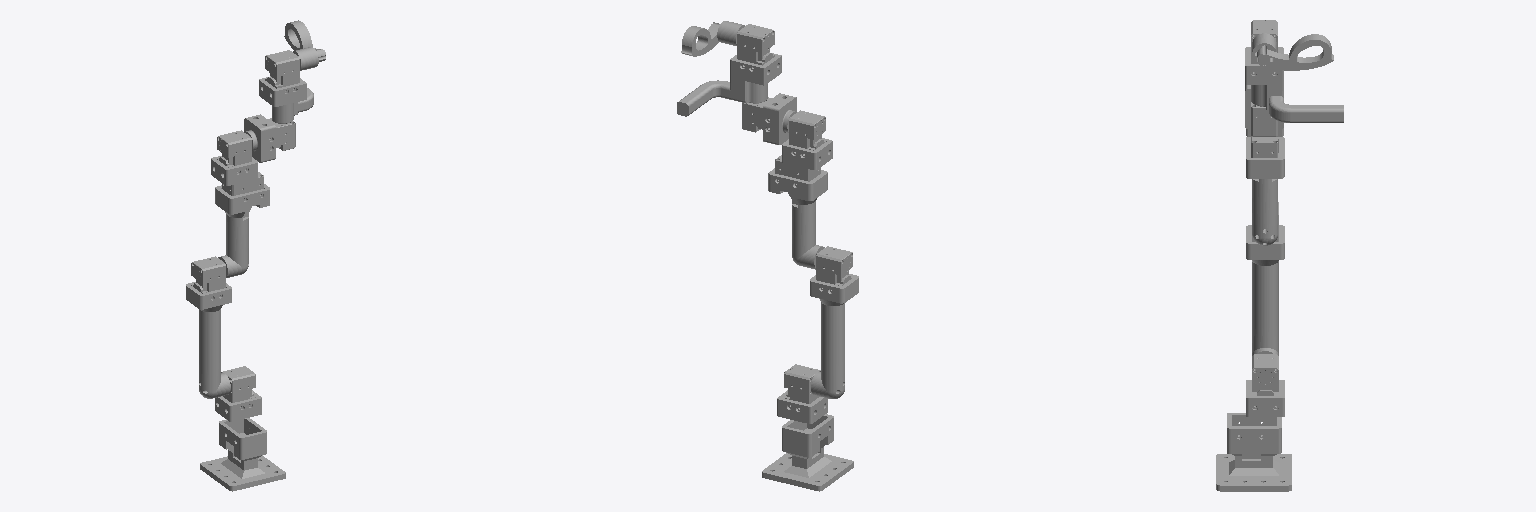
The robot description file, URDF, robot "assy2urdf":
<?xml version="1.0" ?>
<!-- =================================================================================== -->
<!-- |    This document was autogenerated by xacro from assy2urdf.xacro                | -->
<!-- |    EDITING THIS FILE BY HAND IS NOT RECOMMENDED                                 | -->
<!-- =================================================================================== -->
<robot name="assy2urdf">
  <material name="silver">
    <color rgba="0.700 0.700 0.700 1.000"/>
  </material>
  <transmission name="Revolute 2_tran">
    <type>transmission_interface/SimpleTransmission</type>
    <joint name="Revolute 2">
      <hardwareInterface>hardware_interface/EffortJointInterface</hardwareInterface>
    </joint>
    <actuator name="Revolute 2_actr">
      <hardwareInterface>hardware_interface/EffortJointInterface</hardwareInterface>
      <mechanicalReduction>1</mechanicalReduction>
    </actuator>
  </transmission>
  <transmission name="Revolute 4_tran">
    <type>transmission_interface/SimpleTransmission</type>
    <joint name="Revolute 4">
      <hardwareInterface>hardware_interface/EffortJointInterface</hardwareInterface>
    </joint>
    <actuator name="Revolute 4_actr">
      <hardwareInterface>hardware_interface/EffortJointInterface</hardwareInterface>
      <mechanicalReduction>1</mechanicalReduction>
    </actuator>
  </transmission>
  <transmission name="Revolute 6_tran">
    <type>transmission_interface/SimpleTransmission</type>
    <joint name="Revolute 6">
      <hardwareInterface>hardware_interface/EffortJointInterface</hardwareInterface>
    </joint>
    <actuator name="Revolute 6_actr">
      <hardwareInterface>hardware_interface/EffortJointInterface</hardwareInterface>
      <mechanicalReduction>1</mechanicalReduction>
    </actuator>
  </transmission>
  <transmission name="Revolute 8_tran">
    <type>transmission_interface/SimpleTransmission</type>
    <joint name="Revolute 8">
      <hardwareInterface>hardware_interface/EffortJointInterface</hardwareInterface>
    </joint>
    <actuator name="Revolute 8_actr">
      <hardwareInterface>hardware_interface/EffortJointInterface</hardwareInterface>
      <mechanicalReduction>1</mechanicalReduction>
    </actuator>
  </transmission>
  <transmission name="Revolute 10_tran">
    <type>transmission_interface/SimpleTransmission</type>
    <joint name="Revolute 10">
      <hardwareInterface>hardware_interface/EffortJointInterface</hardwareInterface>
    </joint>
    <actuator name="Revolute 10_actr">
      <hardwareInterface>hardware_interface/EffortJointInterface</hardwareInterface>
      <mechanicalReduction>1</mechanicalReduction>
    </actuator>
  </transmission>
  <transmission name="Revolute 12_tran">
    <type>transmission_interface/SimpleTransmission</type>
    <joint name="Revolute 12">
      <hardwareInterface>hardware_interface/EffortJointInterface</hardwareInterface>
    </joint>
    <actuator name="Revolute 12_actr">
      <hardwareInterface>hardware_interface/EffortJointInterface</hardwareInterface>
      <mechanicalReduction>1</mechanicalReduction>
    </actuator>
  </transmission>
  <transmission name="Revolute 14_tran">
    <type>transmission_interface/SimpleTransmission</type>
    <joint name="Revolute 14">
      <hardwareInterface>hardware_interface/EffortJointInterface</hardwareInterface>
    </joint>
    <actuator name="Revolute 14_actr">
      <hardwareInterface>hardware_interface/EffortJointInterface</hardwareInterface>
      <mechanicalReduction>1</mechanicalReduction>
    </actuator>
  </transmission>
  <gazebo>
    <plugin filename="libgazebo_ros_control.so" name="control"/>
  </gazebo>
  <gazebo reference="base_link">
    <material>Gazebo/Silver</material>
    <mu1>0.2</mu1>
    <mu2>0.2</mu2>
    <self_collide>true</self_collide>
    <gravity>true</gravity>
  </gazebo>
  <gazebo reference="XM,H-430_idler_Component5_v2__1__1">
    <material>Gazebo/Silver</material>
    <mu1>0.2</mu1>
    <mu2>0.2</mu2>
    <self_collide>true</self_collide>
  </gazebo>
  <gazebo reference="piper_01_v3_1">
    <material>Gazebo/Silver</material>
    <mu1>0.2</mu1>
    <mu2>0.2</mu2>
    <self_collide>true</self_collide>
  </gazebo>
  <gazebo reference="XM,H-430_idler_Component5_v2__6__1">
    <material>Gazebo/Silver</material>
    <mu1>0.2</mu1>
    <mu2>0.2</mu2>
    <self_collide>true</self_collide>
  </gazebo>
  <gazebo reference="piper_02_v2_1">
    <material>Gazebo/Silver</material>
    <mu1>0.2</mu1>
    <mu2>0.2</mu2>
    <self_collide>true</self_collide>
  </gazebo>
  <gazebo reference="XM,H-430_idler_Component5_v2__4__1">
    <material>Gazebo/Silver</material>
    <mu1>0.2</mu1>
    <mu2>0.2</mu2>
    <self_collide>true</self_collide>
  </gazebo>
  <gazebo reference="piper_03_v2_1">
    <material>Gazebo/Silver</material>
    <mu1>0.2</mu1>
    <mu2>0.2</mu2>
    <self_collide>true</self_collide>
  </gazebo>
  <gazebo reference="XM,H-430_idler_Component5_v2__2__1">
    <material>Gazebo/Silver</material>
    <mu1>0.2</mu1>
    <mu2>0.2</mu2>
    <self_collide>true</self_collide>
  </gazebo>
  <gazebo reference="piper_04_v3_1">
    <material>Gazebo/Silver</material>
    <mu1>0.2</mu1>
    <mu2>0.2</mu2>
    <self_collide>true</self_collide>
  </gazebo>
  <gazebo reference="XM,H-430_idler_Component5_v2__3__1">
    <material>Gazebo/Silver</material>
    <mu1>0.2</mu1>
    <mu2>0.2</mu2>
    <self_collide>true</self_collide>
  </gazebo>
  <gazebo reference="piper_05_v2_1">
    <material>Gazebo/Silver</material>
    <mu1>0.2</mu1>
    <mu2>0.2</mu2>
    <self_collide>true</self_collide>
  </gazebo>
  <gazebo reference="XM,H-430_idler_Component5_v2__5__1">
    <material>Gazebo/Silver</material>
    <mu1>0.2</mu1>
    <mu2>0.2</mu2>
    <self_collide>true</self_collide>
  </gazebo>
  <gazebo reference="gripper_01_v1_1">
    <material>Gazebo/Silver</material>
    <mu1>0.2</mu1>
    <mu2>0.2</mu2>
    <self_collide>true</self_collide>
  </gazebo>
  <gazebo reference="XM,H-430_idler_Component5_v2_1">
    <material>Gazebo/Silver</material>
    <mu1>0.2</mu1>
    <mu2>0.2</mu2>
    <self_collide>true</self_collide>
  </gazebo>
  <gazebo reference="gripper_02_v1_1">
    <material>Gazebo/Silver</material>
    <mu1>0.2</mu1>
    <mu2>0.2</mu2>
    <self_collide>true</self_collide>
  </gazebo>
  <link name="base_link">
    <inertial>
      <origin rpy="0 0 0" xyz="2.7473517341654513e-16 0.00036006507840164056 0.021846353644801978"/>
      <mass value="0.8118244367701402"/>
      <inertia ixx="0.000649" ixy="0.0" ixz="0.0" iyy="0.000558" iyz="-3e-06" izz="0.000561"/>
    </inertial>
    <visual>
      <origin rpy="0 0 0" xyz="0 0 0"/>
      <geometry>
        <mesh filename="package://gravity_compensation/meshes/base_link.stl" scale="0.001 0.001 0.001"/>
      </geometry>
      <material name="silver"/>
    </visual>
    <collision>
      <origin rpy="0 0 0" xyz="0 0 0"/>
      <geometry>
        <mesh filename="package://gravity_compensation/meshes/base_link.stl" scale="0.001 0.001 0.001"/>
      </geometry>
    </collision>
  </link>
  <link name="XM,H-430_idler_Component5_v2__1__1">
    <inertial>
      <origin rpy="0 0 0" xyz="-0.014249999999995681 -0.007727783469295217 0.00678328400293815"/>
      <mass value="0.08200372676881872"/>
      <inertia ixx="2.2e-05" ixy="-0.0" ixz="-0.0" iyy="1.3e-05" iyz="-0.0" izz="2e-05"/>
    </inertial>
    <visual>
      <origin rpy="0 0 0" xyz="-0.0145 -0.008134 -0.054"/>
      <geometry>
        <mesh filename="package://gravity_compensation/meshes/XM,H-430_idler_Component5_v2__1__1.stl" scale="0.001 0.001 0.001"/>
      </geometry>
      <material name="silver"/>
    </visual>
    <collision>
      <origin rpy="0 0 0" xyz="-0.0145 -0.008134 -0.054"/>
      <geometry>
        <mesh filename="package://gravity_compensation/meshes/XM,H-430_idler_Component5_v2__1__1.stl" scale="0.001 0.001 0.001"/>
      </geometry>
    </collision>
  </link>
  <link name="piper_01_v3_1">
    <inertial>
      <origin rpy="0 0 0" xyz="-4.174178364069192e-18 -2.2457508828607753e-07 0.009032474778675595"/>
      <mass value="0.01447"/>
      <inertia ixx="7e-06" ixy="-0.0" ixz="-0.0" iyy="9e-06" iyz="0.0" izz="1.3e-05"/>
    </inertial>
    <visual>
      <origin rpy="0 0 0" xyz="-0.00025 -0.012134 -0.079"/>
      <geometry>
        <mesh filename="package://gravity_compensation/meshes/piper_01_v3_1.stl" scale="0.001 0.001 0.001"/>
      </geometry>
      <material name="silver"/>
    </visual>
    <collision>
      <origin rpy="0 0 0" xyz="-0.00025 -0.012134 -0.079"/>
      <geometry>
        <mesh filename="package://gravity_compensation/meshes/piper_01_v3_1.stl" scale="0.001 0.001 0.001"/>
      </geometry>
    </collision>
  </link>
  <link name="XM,H-430_idler_Component5_v2__6__1">
    <inertial>
      <origin rpy="0 0 0" xyz="0.005216715997061845 0.014249775424885845 0.016272441105814592"/>
      <mass value="0.08200372676881872"/>
      <inertia ixx="2e-05" ixy="-0.0" ixz="0.0" iyy="2.2e-05" iyz="0.0" izz="1.3e-05"/>
    </inertial>
    <visual>
      <origin rpy="0 0 0" xyz="0.00575 0.002366 -0.09425"/>
      <geometry>
        <mesh filename="package://gravity_compensation/meshes/XM,H-430_idler_Component5_v2__6__1.stl" scale="0.001 0.001 0.001"/>
      </geometry>
      <material name="silver"/>
    </visual>
    <collision>
      <origin rpy="0 0 0" xyz="0.00575 0.002366 -0.09425"/>
      <geometry>
        <mesh filename="package://gravity_compensation/meshes/XM,H-430_idler_Component5_v2__6__1.stl" scale="0.001 0.001 0.001"/>
      </geometry>
    </collision>
  </link>
  <link name="piper_02_v2_1">
    <inertial>
      <origin rpy="0 0 0" xyz="-0.021431679375501177 -2.2961620578000608e-07 0.0692772686697884"/>
      <mass value="0.048"/>
      <inertia ixx="0.000288" ixy="-0.0" ixz="1e-05" iyy="0.000291" iyz="-0.0" izz="2.3e-05"/>
    </inertial>
    <visual>
      <origin rpy="0 0 0" xyz="0.01875 -0.011884 -0.12225"/>
      <geometry>
        <mesh filename="package://gravity_compensation/meshes/piper_02_v2_1.stl" scale="0.001 0.001 0.001"/>
      </geometry>
      <material name="silver"/>
    </visual>
    <collision>
      <origin rpy="0 0 0" xyz="0.01875 -0.011884 -0.12225"/>
      <geometry>
        <mesh filename="package://gravity_compensation/meshes/piper_02_v2_1.stl" scale="0.001 0.001 0.001"/>
      </geometry>
    </collision>
  </link>
  <link name="XM,H-430_idler_Component5_v2__4__1">
    <inertial>
      <origin rpy="0 0 0" xyz="-0.005216715997061784 0.014249775424894487 0.016272441105814606"/>
      <mass value="0.08200372676881872"/>
      <inertia ixx="2e-05" ixy="-0.0" ixz="-0.0" iyy="2.2e-05" iyz="-0.0" izz="1.3e-05"/>
    </inertial>
    <visual>
      <origin rpy="0 0 0" xyz="0.036251 0.002616 -0.2545"/>
      <geometry>
        <mesh filename="package://gravity_compensation/meshes/XM,H-430_idler_Component5_v2__4__1.stl" scale="0.001 0.001 0.001"/>
      </geometry>
      <material name="silver"/>
    </visual>
    <collision>
      <origin rpy="0 0 0" xyz="0.036251 0.002616 -0.2545"/>
      <geometry>
        <mesh filename="package://gravity_compensation/meshes/XM,H-430_idler_Component5_v2__4__1.stl" scale="0.001 0.001 0.001"/>
      </geometry>
    </collision>
  </link>
  <link name="piper_03_v2_1">
    <inertial>
      <origin rpy="0 0 0" xyz="0.02300696240364494 -2.1690446740801894e-07 0.05048311262320326"/>
      <mass value="0.03698"/>
      <inertia ixx="0.000135" ixy="-0.0" ixz="-1.5e-05" iyy="0.000145" iyz="0.0" izz="3e-05"/>
    </inertial>
    <visual>
      <origin rpy="0 0 0" xyz="0.023251 -0.011634 -0.2825"/>
      <geometry>
        <mesh filename="package://gravity_compensation/meshes/piper_03_v2_1.stl" scale="0.001 0.001 0.001"/>
      </geometry>
      <material name="silver"/>
    </visual>
    <collision>
      <origin rpy="0 0 0" xyz="0.023251 -0.011634 -0.2825"/>
      <geometry>
        <mesh filename="package://gravity_compensation/meshes/piper_03_v2_1.stl" scale="0.001 0.001 0.001"/>
      </geometry>
    </collision>
  </link>
  <link name="XM,H-430_idler_Component5_v2__2__1">
    <inertial>
      <origin rpy="0 0 0" xyz="-0.01627244110581471 0.01424977542489448 0.006783284002938039"/>
      <mass value="0.08200372676881872"/>
      <inertia ixx="1.3e-05" ixy="0.0" ixz="0.0" iyy="2.2e-05" iyz="-0.0" izz="2e-05"/>
    </inertial>
    <visual>
      <origin rpy="0 0 0" xyz="-0.0225 0.002866 -0.3785"/>
      <geometry>
        <mesh filename="package://gravity_compensation/meshes/XM,H-430_idler_Component5_v2__2__1.stl" scale="0.001 0.001 0.001"/>
      </geometry>
      <material name="silver"/>
    </visual>
    <collision>
      <origin rpy="0 0 0" xyz="-0.0225 0.002866 -0.3785"/>
      <geometry>
        <mesh filename="package://gravity_compensation/meshes/XM,H-430_idler_Component5_v2__2__1.stl" scale="0.001 0.001 0.001"/>
      </geometry>
    </collision>
  </link>
  <link name="piper_04_v3_1">
    <inertial>
      <origin rpy="0 0 0" xyz="-1.4051260155412137e-16 -2.245751316437561e-07 0.009099644951418073"/>
      <mass value="0.0163"/>
      <inertia ixx="7e-06" ixy="-0.0" ixz="0.0" iyy="9e-06" iyz="-0.0" izz="1.3e-05"/>
    </inertial>
    <visual>
      <origin rpy="0 0 0" xyz="0.0055 -0.011384 -0.4035"/>
      <geometry>
        <mesh filename="package://gravity_compensation/meshes/piper_04_v3_1.stl" scale="0.001 0.001 0.001"/>
      </geometry>
      <material name="silver"/>
    </visual>
    <collision>
      <origin rpy="0 0 0" xyz="0.0055 -0.011384 -0.4035"/>
      <geometry>
        <mesh filename="package://gravity_compensation/meshes/piper_04_v3_1.stl" scale="0.001 0.001 0.001"/>
      </geometry>
    </collision>
  </link>
  <link name="XM,H-430_idler_Component5_v2__3__1">
    <inertial>
      <origin rpy="0 0 0" xyz="-0.005216715997061869 0.014249775424894383 0.01627244110581455"/>
      <mass value="0.08200372676881872"/>
      <inertia ixx="2e-05" ixy="-0.0" ixz="-0.0" iyy="2.2e-05" iyz="-0.0" izz="1.3e-05"/>
    </inertial>
    <visual>
      <origin rpy="0 0 0" xyz="-0.0005 0.003116 -0.41875"/>
      <geometry>
        <mesh filename="package://gravity_compensation/meshes/XM,H-430_idler_Component5_v2__3__1.stl" scale="0.001 0.001 0.001"/>
      </geometry>
      <material name="silver"/>
    </visual>
    <collision>
      <origin rpy="0 0 0" xyz="-0.0005 0.003116 -0.41875"/>
      <geometry>
        <mesh filename="package://gravity_compensation/meshes/XM,H-430_idler_Component5_v2__3__1.stl" scale="0.001 0.001 0.001"/>
      </geometry>
    </collision>
  </link>
  <link name="piper_05_v2_1">
    <inertial>
      <origin rpy="0 0 0" xyz="0.014503212167685098 -2.2457508234464962e-07 0.0"/>
      <mass value="0.0163"/>
      <inertia ixx="1.3e-05" ixy="0.0" ixz="0.0" iyy="9e-06" iyz="0.0" izz="7e-06"/>
    </inertial>
    <visual>
      <origin rpy="0 0 0" xyz="-0.0135 -0.011134 -0.44675"/>
      <geometry>
        <mesh filename="package://gravity_compensation/meshes/piper_05_v2_1.stl" scale="0.001 0.001 0.001"/>
      </geometry>
      <material name="silver"/>
    </visual>
    <collision>
      <origin rpy="0 0 0" xyz="-0.0135 -0.011134 -0.44675"/>
      <geometry>
        <mesh filename="package://gravity_compensation/meshes/piper_05_v2_1.stl" scale="0.001 0.001 0.001"/>
      </geometry>
    </collision>
  </link>
  <link name="XM,H-430_idler_Component5_v2__5__1">
    <inertial>
      <origin rpy="0 0 0" xyz="0.01627244110581494 0.014249775424887489 -0.00521671599706186"/>
      <mass value="0.08200372676881872"/>
      <inertia ixx="1.3e-05" ixy="0.0" ixz="-0.0" iyy="2.2e-05" iyz="0.0" izz="2e-05"/>
    </inertial>
    <visual>
      <origin rpy="0 0 0" xyz="-0.03525 0.003366 -0.45275"/>
      <geometry>
        <mesh filename="package://gravity_compensation/meshes/XM,H-430_idler_Component5_v2__5__1.stl" scale="0.001 0.001 0.001"/>
      </geometry>
      <material name="silver"/>
    </visual>
    <collision>
      <origin rpy="0 0 0" xyz="-0.03525 0.003366 -0.45275"/>
      <geometry>
        <mesh filename="package://gravity_compensation/meshes/XM,H-430_idler_Component5_v2__5__1.stl" scale="0.001 0.001 0.001"/>
      </geometry>
    </collision>
  </link>
  <link name="gripper_01_v1_1">
    <inertial>
      <origin rpy="0 0 0" xyz="0.01602298291105507 0.014131219692872449 0.021942634574011244"/>
      <mass value="0.036"/>
      <inertia ixx="0.000469" ixy="-0.000236" ixz="0.000119" iyy="0.000447" iyz="0.000105" izz="0.000655"/>
    </inertial>
    <visual>
      <origin rpy="0 0 0" xyz="-0.06325 -0.010884 -0.46575"/>
      <geometry>
        <mesh filename="package://gravity_compensation/meshes/gripper_01_v1_1.stl" scale="0.001 0.001 0.001"/>
      </geometry>
      <material name="silver"/>
    </visual>
    <collision>
      <origin rpy="0 0 0" xyz="-0.06325 -0.010884 -0.46575"/>
      <geometry>
        <mesh filename="package://gravity_compensation/meshes/gripper_01_v1_1.stl" scale="0.001 0.001 0.001"/>
      </geometry>
    </collision>
  </link>
  <link name="XM,H-430_idler_Component5_v2_1">
    <inertial>
      <origin rpy="0 0 0" xyz="0.000783284002938478 -2.2457510347878573e-07 0.023522441105814473"/>
      <mass value="0.08200372676881872"/>
      <inertia ixx="2e-05" ixy="-0.0" ixz="-0.0" iyy="2.2e-05" iyz="-0.0" izz="1.3e-05"/>
    </inertial>
    <visual>
      <origin rpy="0 0 0" xyz="-0.06325 -0.010884 -0.50575"/>
      <geometry>
        <mesh filename="package://gravity_compensation/meshes/XM,H-430_idler_Component5_v2_1.stl" scale="0.001 0.001 0.001"/>
      </geometry>
      <material name="silver"/>
    </visual>
    <collision>
      <origin rpy="0 0 0" xyz="-0.06325 -0.010884 -0.50575"/>
      <geometry>
        <mesh filename="package://gravity_compensation/meshes/XM,H-430_idler_Component5_v2_1.stl" scale="0.001 0.001 0.001"/>
      </geometry>
    </collision>
  </link>
  <link name="gripper_02_v1_1">
    <inertial>
      <origin rpy="0 0 0" xyz="0.024454489059158646 0.02174671208184239 0.0010406915065913624"/>
      <mass value="0.0156"/>
      <inertia ixx="0.000154" ixy="-3.7e-05" ixz="-2e-06" iyy="4.4e-05" iyz="-1.4e-05" izz="0.000164"/>
    </inertial>
    <visual>
      <origin rpy="0 0 0" xyz="-0.08225 -0.010884 -0.541"/>
      <geometry>
        <mesh filename="package://gravity_compensation/meshes/gripper_02_v1_1.stl" scale="0.001 0.001 0.001"/>
      </geometry>
      <material name="silver"/>
    </visual>
    <collision>
      <origin rpy="0 0 0" xyz="-0.08225 -0.010884 -0.541"/>
      <geometry>
        <mesh filename="package://gravity_compensation/meshes/gripper_02_v1_1.stl" scale="0.001 0.001 0.001"/>
      </geometry>
    </collision>
  </link>
  <joint name="Rigid 1" type="fixed">
    <origin rpy="0 0 0" xyz="0.0145 0.008134 0.054"/>
    <parent link="base_link"/>
    <child link="XM,H-430_idler_Component5_v2__1__1"/>
  </joint>
  <joint name="Revolute 2" type="revolute">
    <origin rpy="0 0 0" xyz="-0.01425 0.004 0.025"/>
    <parent link="XM,H-430_idler_Component5_v2__1__1"/>
    <child link="piper_01_v3_1"/>
    <axis xyz="0.0 0.0 1.0"/>
    <limit effort="100" lower="-3.141593" upper="3.141593" velocity="100"/>
  </joint>
  <joint name="Rigid 3" type="fixed">
    <origin rpy="0 0 0" xyz="-0.006 -0.0145 0.01525"/>
    <parent link="piper_01_v3_1"/>
    <child link="XM,H-430_idler_Component5_v2__6__1"/>
  </joint>
  <joint name="Revolute 4" type="revolute">
    <origin rpy="0 0 0" xyz="-0.013 0.01425 0.028"/>
    <parent link="XM,H-430_idler_Component5_v2__6__1"/>
    <child link="piper_02_v2_1"/>
    <axis xyz="-1.0 0.0 0.0"/>
    <limit effort="100" lower="-3.14" upper="3.14" velocity="100"/>
  </joint>
  <joint name="Rigid 5" type="fixed">
    <origin rpy="0 0 0" xyz="-0.017501 -0.0145 0.13225"/>
    <parent link="piper_02_v2_1"/>
    <child link="XM,H-430_idler_Component5_v2__4__1"/>
  </joint>
  <joint name="Revolute 6" type="revolute">
    <origin rpy="0 0 0" xyz="0.013 0.01425 0.028"/>
    <parent link="XM,H-430_idler_Component5_v2__4__1"/>
    <child link="piper_03_v2_1"/>
    <axis xyz="1.0 0.0 -0.0"/>
    <limit effort="100" lower="-3.14" upper="3.14" velocity="100"/>
  </joint>
  <joint name="Rigid 7" type="fixed">
    <origin rpy="0 0 0" xyz="0.045751 -0.0145 0.096"/>
    <parent link="piper_03_v2_1"/>
    <child link="XM,H-430_idler_Component5_v2__2__1"/>
  </joint>
  <joint name="Revolute 8" type="revolute">
    <origin rpy="0 0 0" xyz="-0.028 0.01425 0.025"/>
    <parent link="XM,H-430_idler_Component5_v2__2__1"/>
    <child link="piper_04_v3_1"/>
    <axis xyz="-0.0 -0.0 1.0"/>
    <limit effort="100" lower="-1.570796" upper="1.570796" velocity="100"/>
  </joint>
  <joint name="Rigid 9" type="fixed">
    <origin rpy="0 0 0" xyz="0.006 -0.0145 0.01525"/>
    <parent link="piper_04_v3_1"/>
    <child link="XM,H-430_idler_Component5_v2__3__1"/>
  </joint>
  <joint name="Revolute 10" type="revolute">
    <origin rpy="0 0 0" xyz="0.013 0.01425 0.028"/>
    <parent link="XM,H-430_idler_Component5_v2__3__1"/>
    <child link="piper_05_v2_1"/>
    <axis xyz="1.0 0.0 0.0"/>
    <limit effort="100" lower="-1.570796" upper="1.570796" velocity="100"/>
  </joint>
  <joint name="Rigid 11" type="fixed">
    <origin rpy="0 0 0" xyz="0.02175 -0.0145 0.006"/>
    <parent link="piper_05_v2_1"/>
    <child link="XM,H-430_idler_Component5_v2__5__1"/>
  </joint>
  <joint name="Revolute 12" type="revolute">
    <origin rpy="0 0 0" xyz="0.028 0.01425 0.013"/>
    <parent link="XM,H-430_idler_Component5_v2__5__1"/>
    <child link="gripper_01_v1_1"/>
    <axis xyz="-0.0 -0.0 1.0"/>
    <limit effort="100" lower="-1.570796" upper="1.570796" velocity="100"/>
  </joint>
  <joint name="Rigid 13" type="fixed">
    <origin rpy="0 0 0" xyz="0.0 0.0 0.04"/>
    <parent link="gripper_01_v1_1"/>
    <child link="XM,H-430_idler_Component5_v2_1"/>
  </joint>
  <joint name="Revolute 14" type="revolute">
    <origin rpy="0 0 0" xyz="0.019 0.0 0.03525"/>
    <parent link="XM,H-430_idler_Component5_v2_1"/>
    <child link="gripper_02_v1_1"/>
    <axis xyz="1.0 0.0 0.0"/>
    <limit effort="100" lower="-0.785398" upper="0.785398" velocity="100"/>
  </joint>
</robot>

--- Facts derived from the render (not from the file) ---
The picture shows the robot from 3 angles, left to right: view 1: azimuth 30°, elevation 25°; view 2: azimuth 150°, elevation 25°; view 3: azimuth 270°, elevation 25°; orthographic projection.
Model assy2urdf with 15 links and 14 joints (7 revolute, 7 fixed), rooted at base_link, posed every joint at zero.
Links seen in each view (by area): view 1: base_link, piper_02_v2_1, piper_03_v2_1, gripper_01_v1_1, piper_05_v2_1, gripper_02_v1_1, XM,H-430_idler_Component5_v2_1, XM,H-430_idler_Component5_v2__4__1, XM,H-430_idler_Component5_v2__3__1, piper_04_v3_1, piper_01_v3_1, XM,H-430_idler_Component5_v2__6__1 (+1 smaller); view 2: base_link, piper_02_v2_1, piper_03_v2_1, gripper_01_v1_1, gripper_02_v1_1, piper_05_v2_1, XM,H-430_idler_Component5_v2_1, XM,H-430_idler_Component5_v2__4__1, XM,H-430_idler_Component5_v2__3__1, piper_04_v3_1, piper_01_v3_1, XM,H-430_idler_Component5_v2__6__1 (+2 smaller); view 3: base_link, piper_02_v2_1, gripper_01_v1_1, piper_03_v2_1, gripper_02_v1_1, XM,H-430_idler_Component5_v2__6__1, piper_01_v3_1, XM,H-430_idler_Component5_v2__5__1, XM,H-430_idler_Component5_v2__2__1.
Link boxes in pixels (x1,y1,x2,y2): base_link: (200,418,285,491); piper_02_v2_1: (186,282,231,398); piper_03_v2_1: (215,184,269,277); gripper_01_v1_1: (259,77,313,123); piper_05_v2_1: (244,114,275,162); gripper_02_v1_1: (284,20,325,70); XM,H-430_idler_Component5_v2_1: (265,50,299,88); XM,H-430_idler_Component5_v2__4__1: (191,256,225,293); XM,H-430_idler_Component5_v2__3__1: (217,130,251,167); piper_04_v3_1: (211,156,257,185); piper_01_v3_1: (215,390,261,421); XM,H-430_idler_Component5_v2__6__1: (221,366,255,402); base_link: (762,414,853,491); piper_02_v2_1: (810,274,858,398); piper_03_v2_1: (768,168,827,269); gripper_01_v1_1: (677,53,781,116); gripper_02_v1_1: (681,21,744,56); piper_05_v2_1: (763,93,796,144); XM,H-430_idler_Component5_v2_1: (737,24,774,65); XM,H-430_idler_Component5_v2__4__1: (816,246,852,285); XM,H-430_idler_Component5_v2__3__1: (789,110,825,150); piper_04_v3_1: (782,138,832,169); piper_01_v3_1: (777,390,827,423); XM,H-430_idler_Component5_v2__6__1: (784,364,820,403); base_link: (1216,413,1291,491); piper_02_v2_1: (1246,225,1284,355); gripper_01_v1_1: (1245,47,1343,122); piper_03_v2_1: (1246,137,1284,245); gripper_02_v1_1: (1252,33,1333,70); XM,H-430_idler_Component5_v2__6__1: (1252,354,1278,405); piper_01_v3_1: (1246,380,1284,416); XM,H-430_idler_Component5_v2__5__1: (1251,102,1277,136); XM,H-430_idler_Component5_v2__2__1: (1251,137,1277,157).
Size in the robot's own frame: 0.187 by 0.1343 by 0.5645 metres.
Meshes: 15 distinct files referenced, 14 mesh visuals loaded (14 binary STL); not drawn: 1 (reference not matched to a file when rendering).